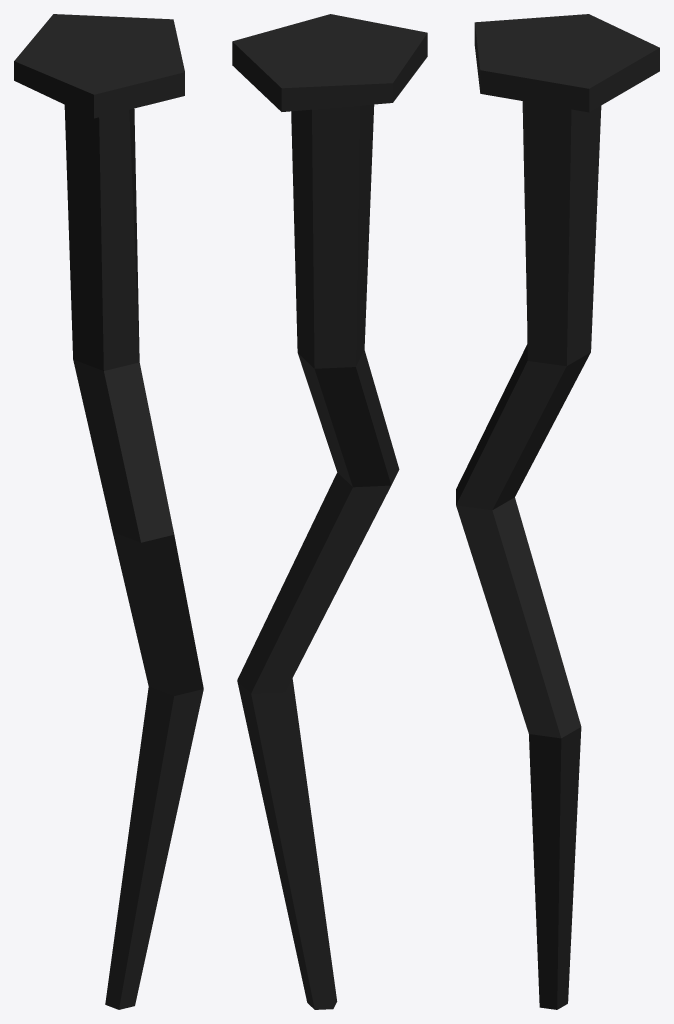
The model's file is nail04.obj.
3 views of the same model, side by side, from view 1: azimuth 30°, elevation 25°; view 2: azimuth 150°, elevation 25°; view 3: azimuth 270°, elevation 25° (orthographic).
Visible parts, largest first — view 1: Cube_Cube.001; view 2: Cube_Cube.001; view 3: Cube_Cube.001.
Part boxes in pixels (x1,y1,x2,y2): Cube_Cube.001: (14,14,203,1009); Cube_Cube.001: (232,14,427,1009); Cube_Cube.001: (456,14,659,1009).
Size of the model in its own units: 0.0101 by 0.0543 by 0.0106.
